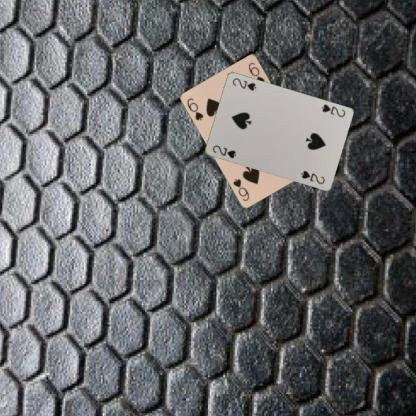2s: (210, 142, 237, 160), (318, 102, 346, 118)
6s: (184, 95, 204, 122)
